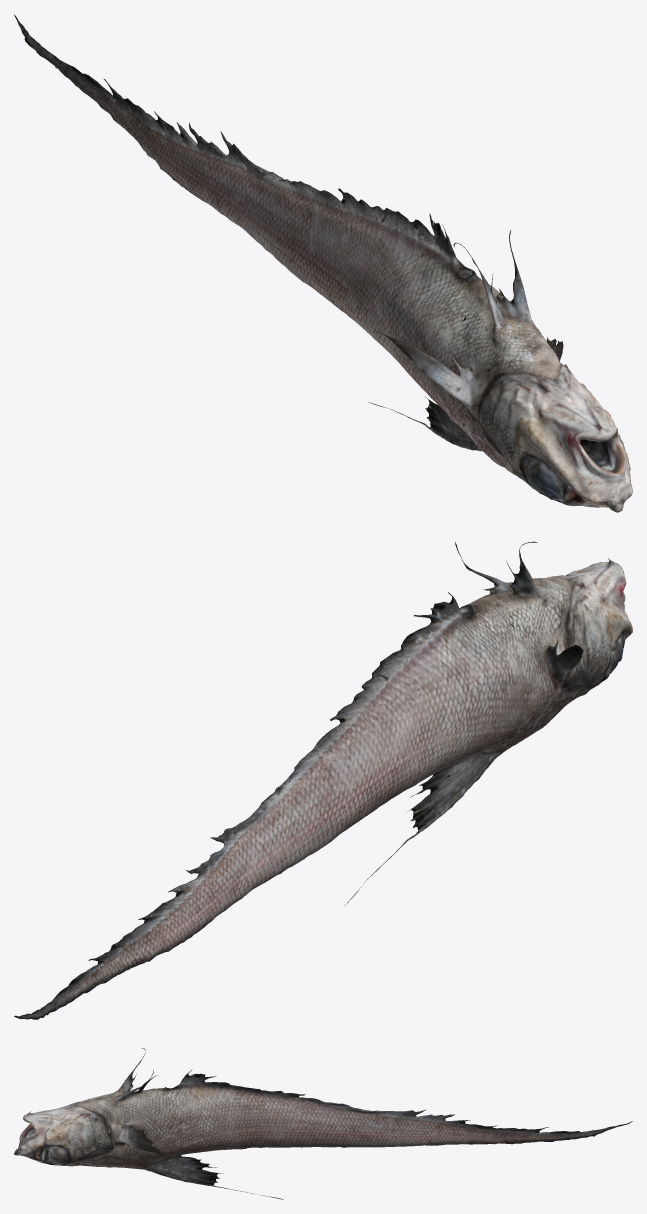
File: deepfish.glb
The picture shows the model from 3 angles, top to bottom: view 1: azimuth 30°, elevation 25°; view 2: azimuth 150°, elevation 25°; view 3: azimuth 270°, elevation 25°; orthographic projection. The views are drawn at different scales.
Visible parts, largest first — view 1: deepfish; view 2: deepfish; view 3: deepfish.
Part boxes in pixels (x1,y1,x2,y2): deepfish: (14, 14, 632, 512); deepfish: (14, 541, 632, 1019); deepfish: (14, 1048, 632, 1199).
Bounding box in the file's own units: 0.1872 × 0.248 × 0.9991.
1 material, 1 textured.
